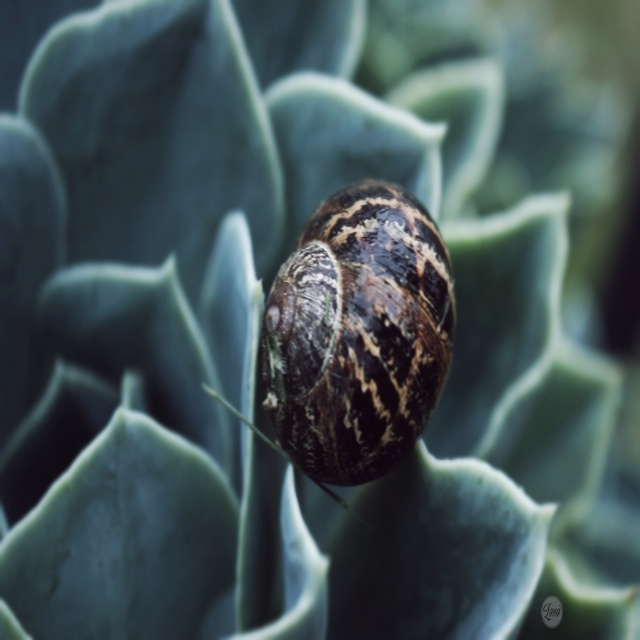Snail: (240, 177, 472, 486)
